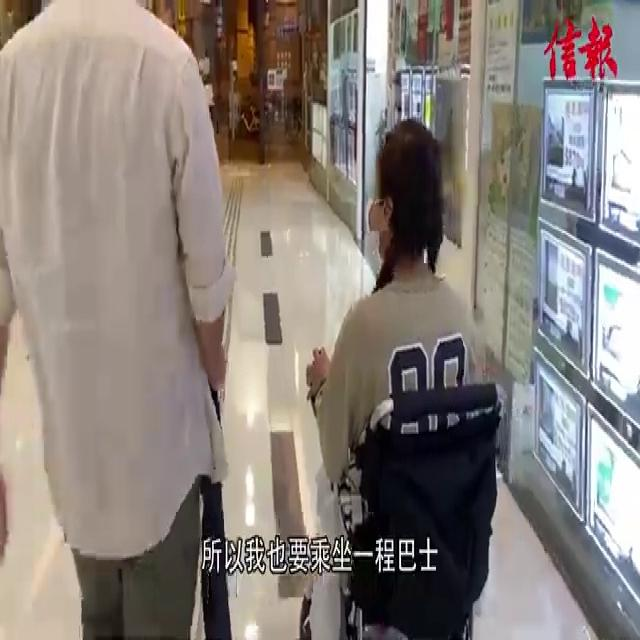wheelchairs: (297, 368, 507, 640)
